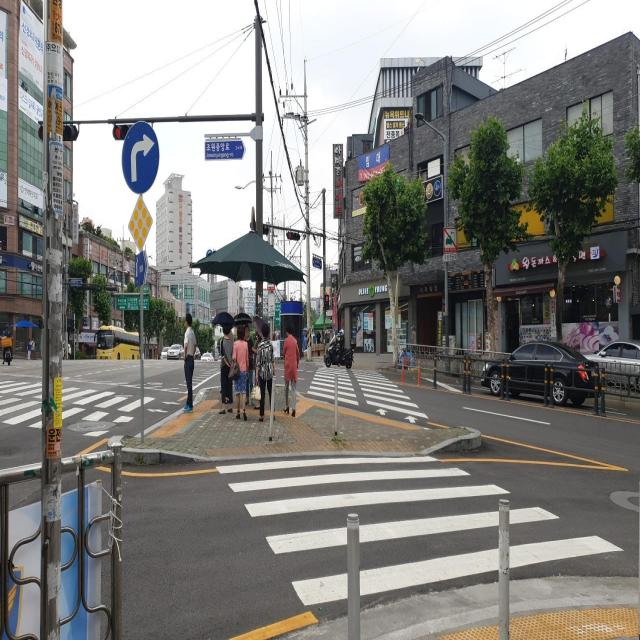횡단보도: (217, 455, 615, 609), (0, 381, 160, 439), (308, 362, 430, 422)
